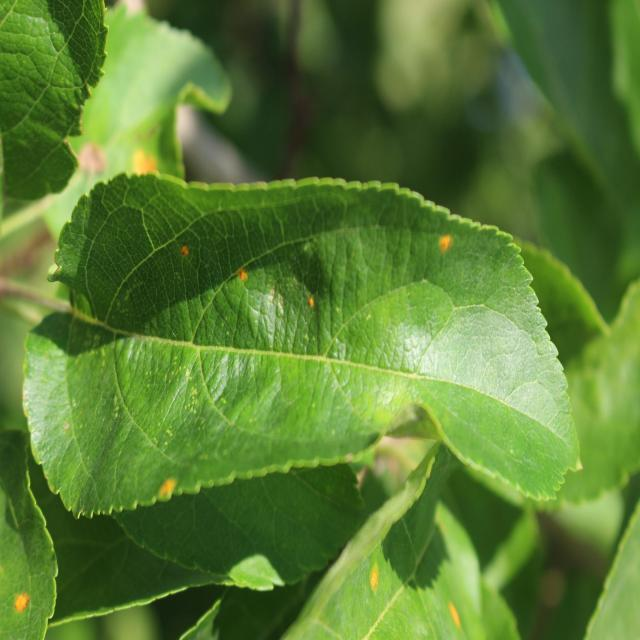Rust: (152, 470, 180, 515), (4, 590, 41, 616), (363, 558, 385, 601), (425, 234, 457, 258), (228, 263, 255, 288), (179, 237, 199, 264), (302, 292, 322, 310)
